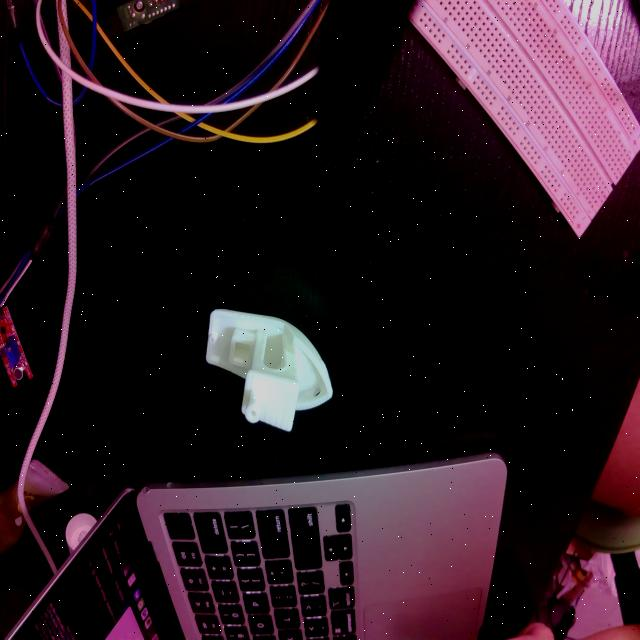ship: (205, 306, 332, 435)
